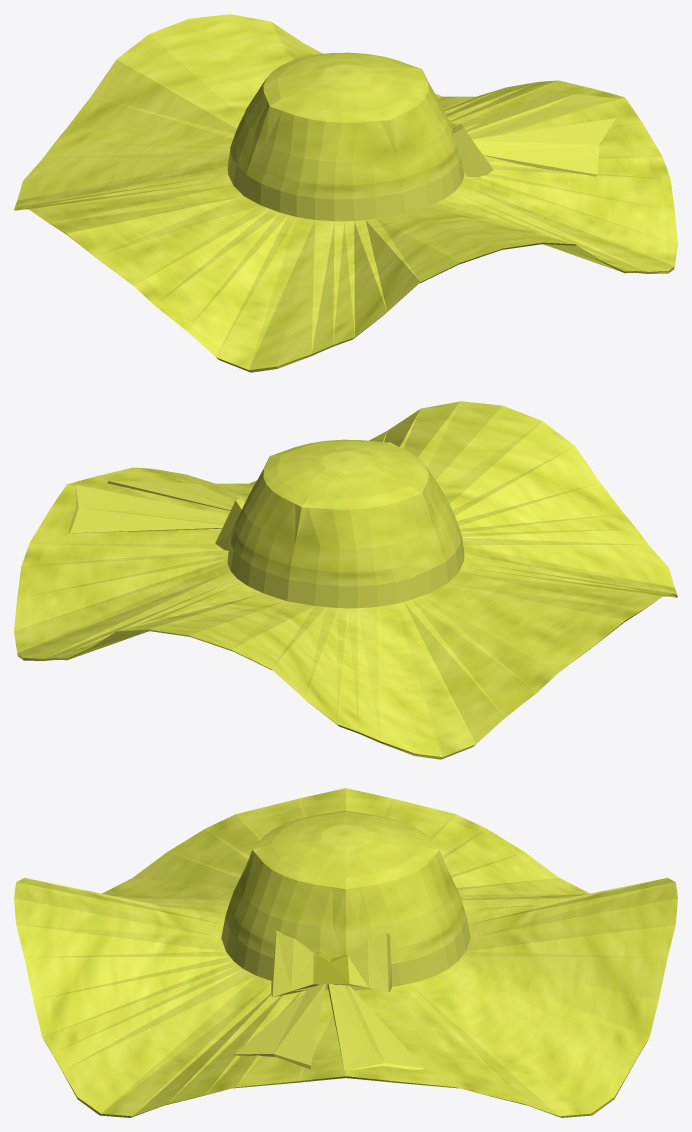
Rendered from Sunny Sun Hat.fbx.
3 renders of one model, top to bottom at view 1: azimuth 30°, elevation 25°; view 2: azimuth 150°, elevation 25°; view 3: azimuth 270°, elevation 25°, orthographic. The views are drawn at different scales.
Parts seen in each view (by area): view 1: Cube; view 2: Cube; view 3: Cube.
Part boxes in pixels (x1,y1,x2,y2): Cube: [14, 14, 677, 372]; Cube: [14, 401, 677, 759]; Cube: [14, 788, 677, 1117].
Bounding box in the file's own units: 80.03 × 22.3 × 77.94.
